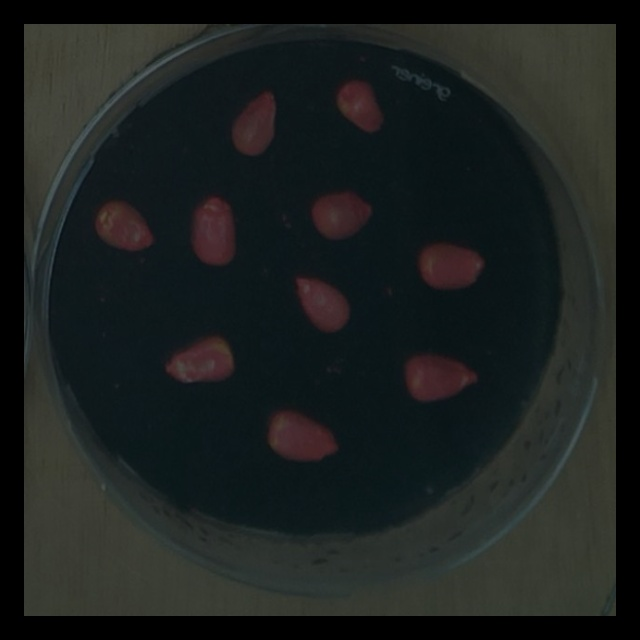Zea mays: (259, 403, 347, 470), (396, 345, 487, 409), (159, 327, 242, 391), (287, 269, 359, 340), (411, 234, 492, 296), (183, 189, 242, 274), (88, 192, 161, 258), (304, 184, 379, 247), (224, 84, 284, 162), (331, 73, 392, 143)
